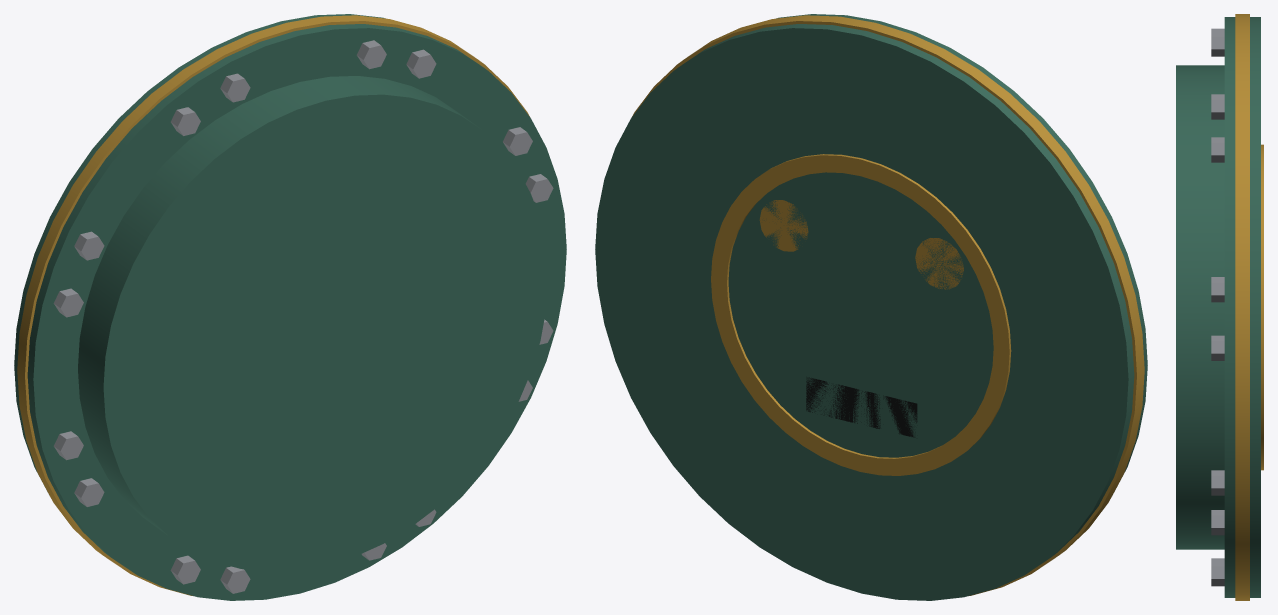
Rendered from h5_flange.obj.
3 renders of one model, left to right at view 1: azimuth 30°, elevation 25°; view 2: azimuth 150°, elevation 25°; view 3: azimuth 270°, elevation 25°, orthographic. The views are drawn at different scales.
Parts seen in each view (by area): view 1: h5_flange; view 2: h5_flange; view 3: h5_flange.
Part boxes in pixels (left/top/right/bottom): h5_flange: left=14, top=14, right=566, bottom=600; h5_flange: left=595, top=14, right=1147, bottom=600; h5_flange: left=1176, top=14, right=1263, bottom=600.
Size of the model in its own units: 1.2 by 1.2 by 0.1794.
